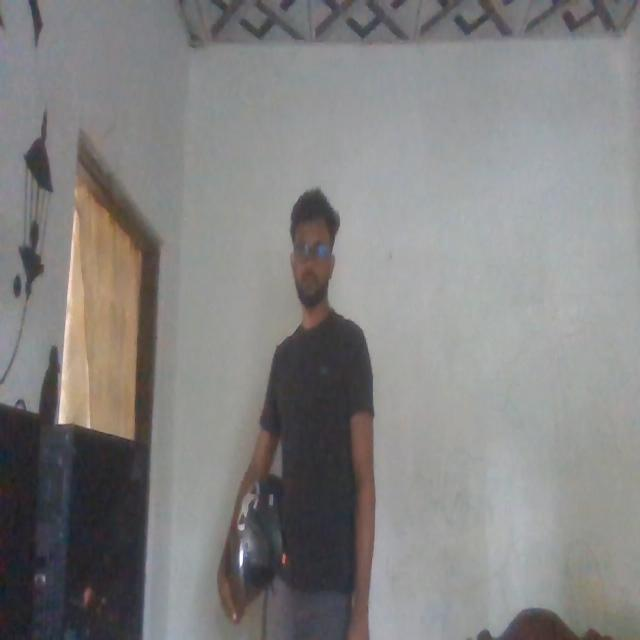Person: (249, 181, 388, 640)
